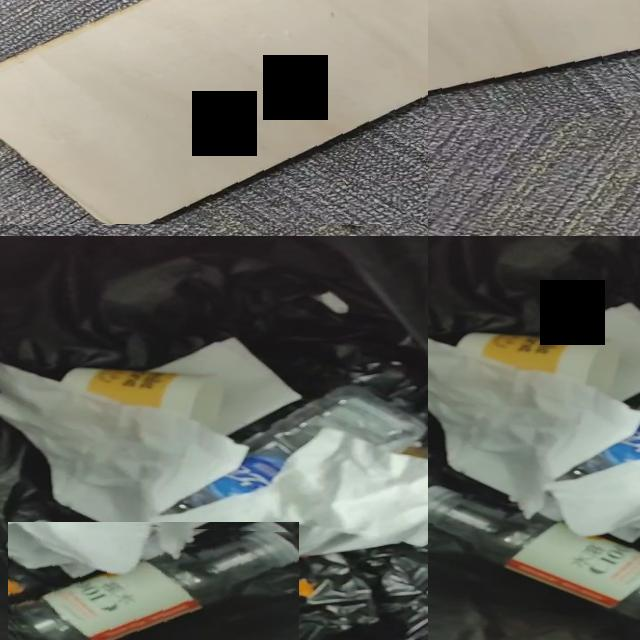bottle: (15, 530, 299, 640), (179, 386, 426, 510), (428, 488, 640, 618)
carton: (0, 0, 428, 224), (428, 0, 640, 90)
dixie_cup: (457, 333, 618, 390), (62, 370, 219, 420)
paper: (0, 364, 428, 574), (428, 339, 640, 540), (150, 338, 299, 434), (549, 303, 640, 401)
